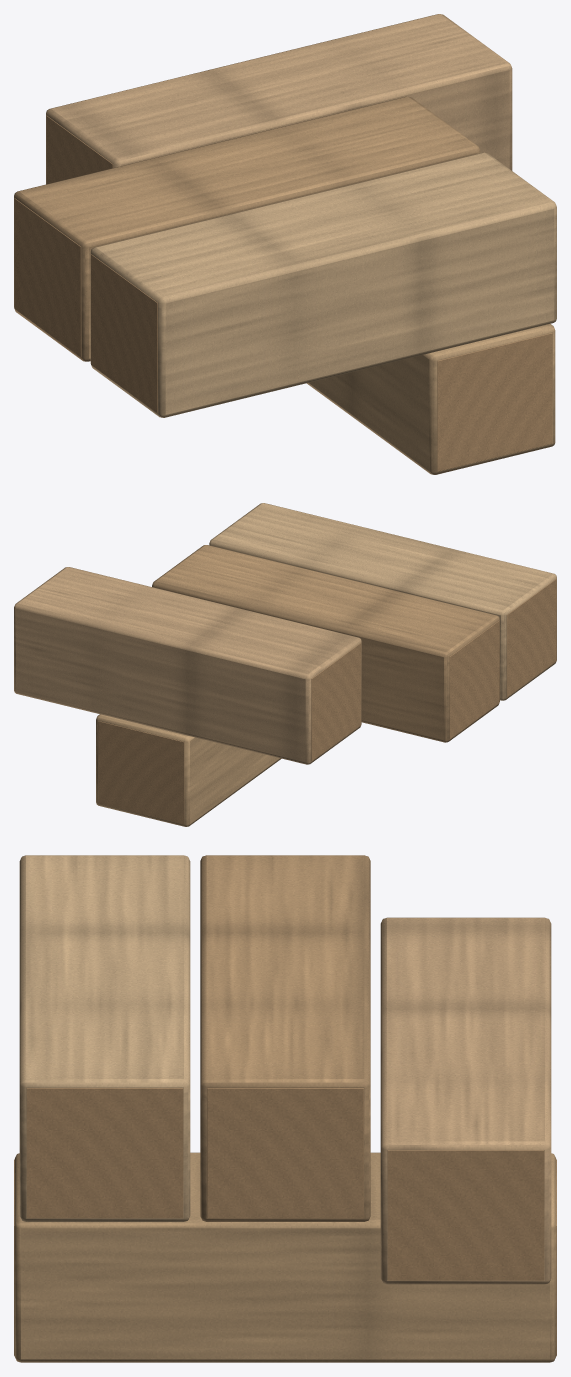
Rendered from 10-crossed-block-layers-4-2.fbx.
3 renders of one model, top to bottom at view 1: azimuth 30°, elevation 25°; view 2: azimuth 150°, elevation 25°; view 3: azimuth 270°, elevation 25°, orthographic. The views are drawn at different scales.
Visible parts, largest first — view 1: crossed-block-layers-4-2; view 2: crossed-block-layers-4-2; view 3: crossed-block-layers-4-2.
Part boxes in pixels (x1,y1,x2,y2): crossed-block-layers-4-2: [14, 14, 556, 474]; crossed-block-layers-4-2: [14, 503, 556, 826]; crossed-block-layers-4-2: [14, 855, 556, 1362].
Size of the model in its own units: 7015 by 3200 by 5515.
1 material, 1 textured.
